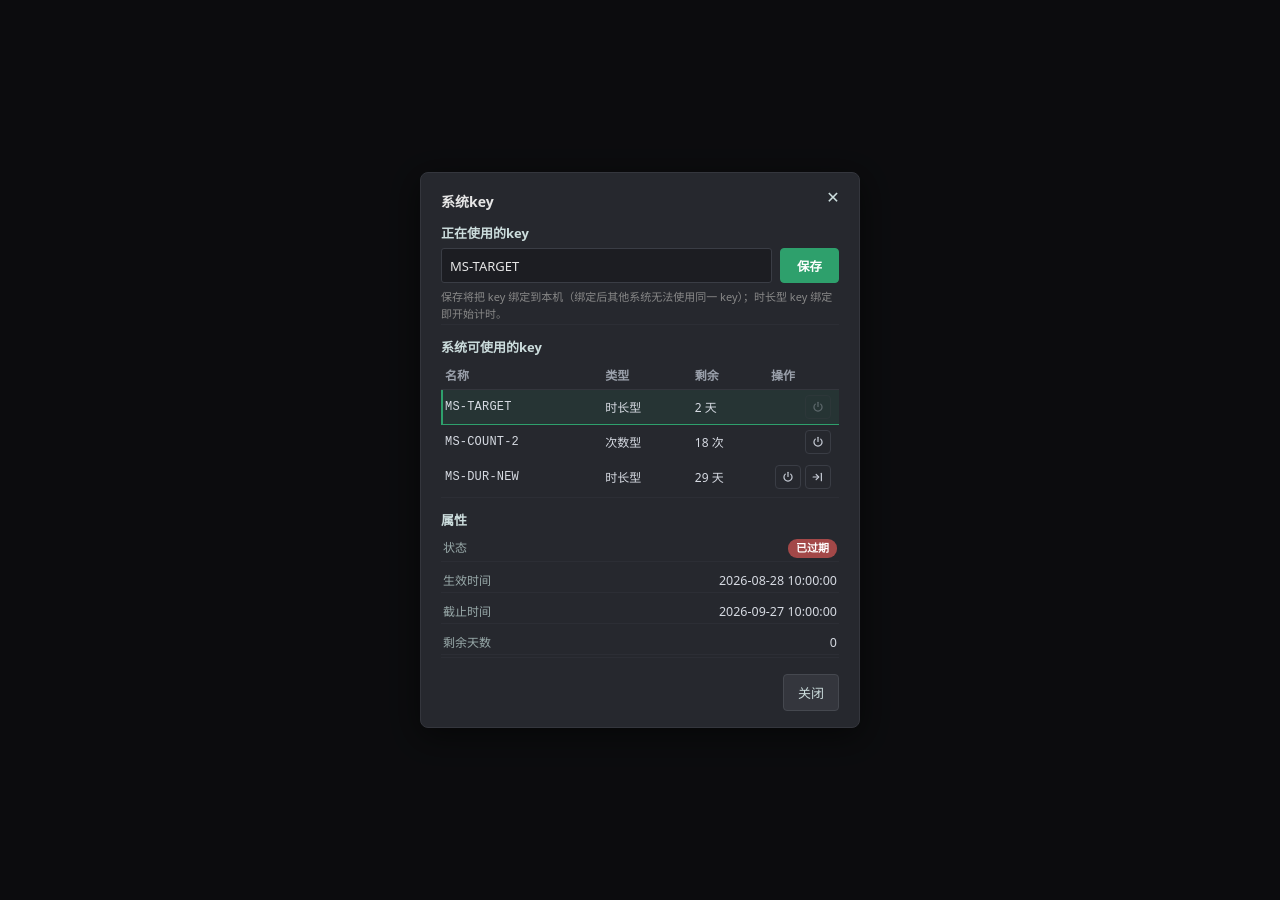
Scenario: KeyInfoModal ② 系统可使用的key 表格（US-011） › 合并整体失败（无 key 指路文案）→ 红字，无明细
The image size is (1280, 900).
Click the button with test id "key-info-merge-one".
click(818, 477)  # box left=805, top=465, right=831, bottom=489
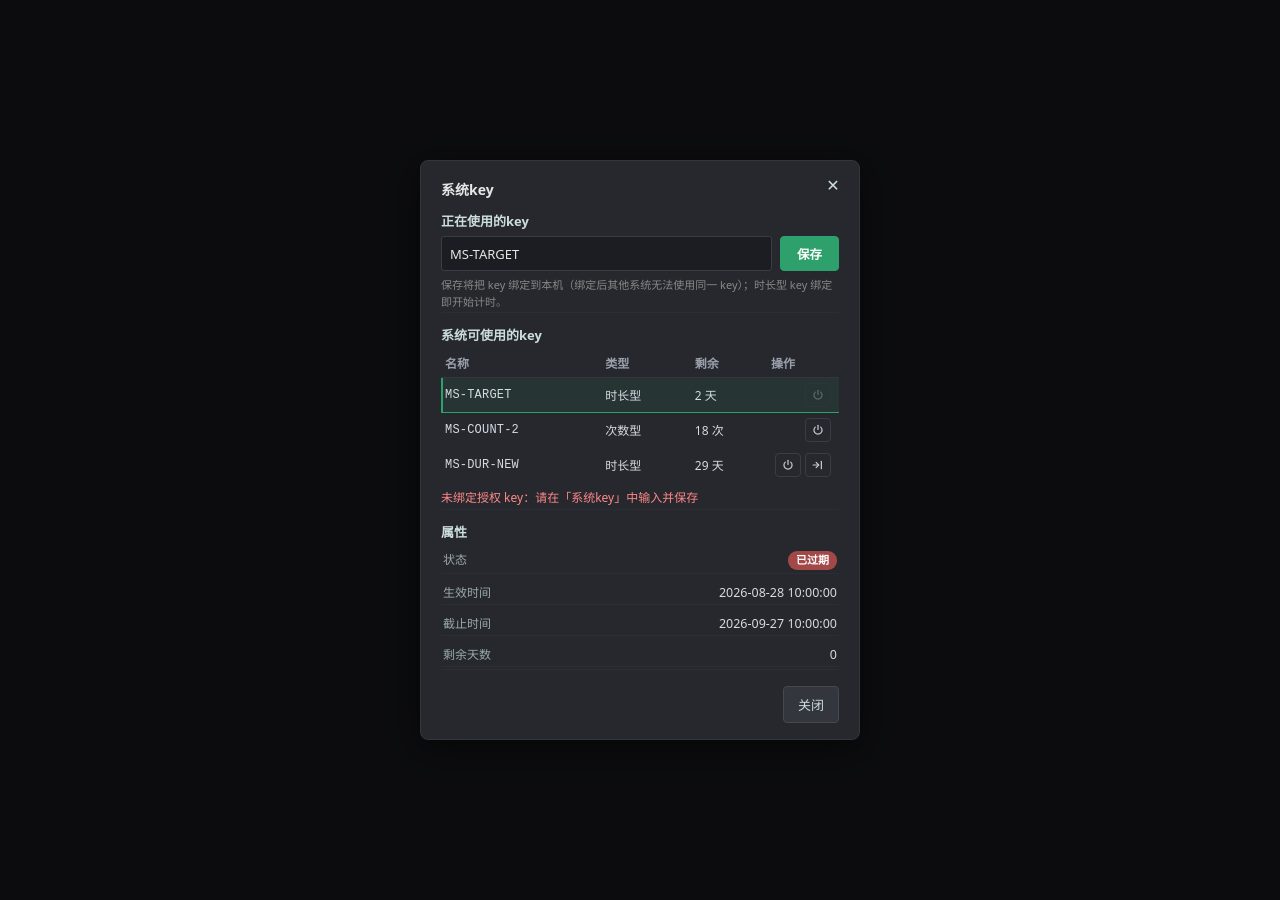
Check: the text with test id "key-info-merge-error" reads "未绑定授权 key：请在「系统key」中输入并保存", box left=441, top=489, right=698, bottom=506
